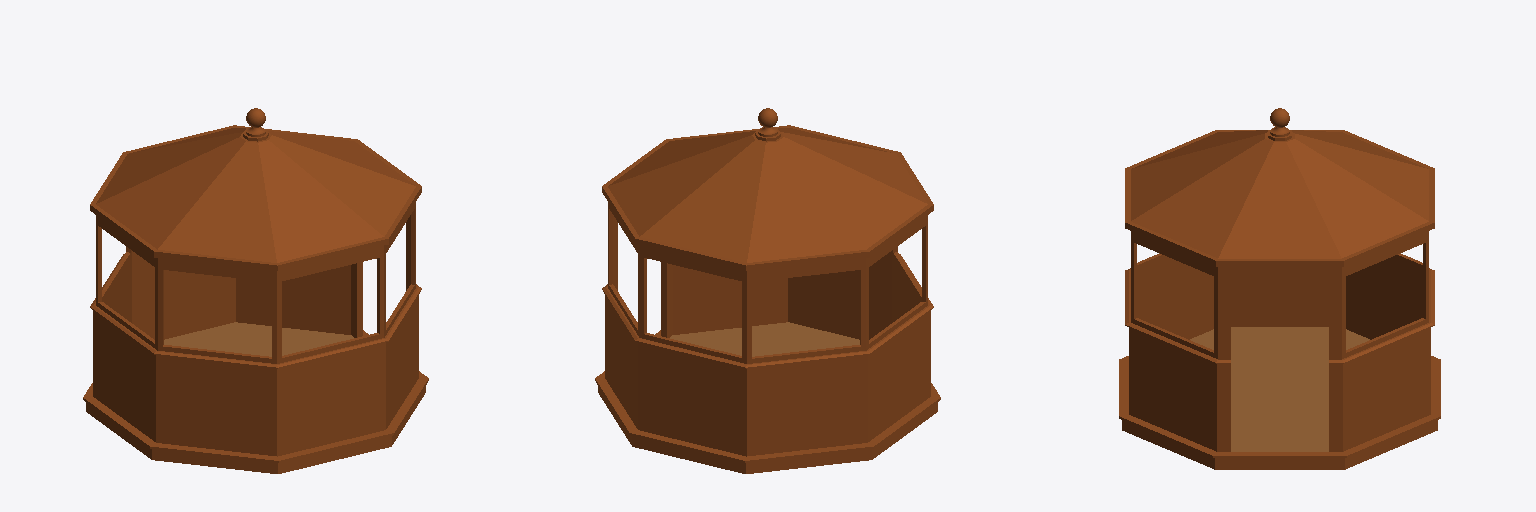
The model's file is summerhouse.obj.
3 renders of one model, left to right at view 1: azimuth 30°, elevation 25°; view 2: azimuth 150°, elevation 25°; view 3: azimuth 270°, elevation 25°, orthographic.
Parts seen in each view (by area): view 1: summerhouse_Main-Wood_Cherry_Original, summerhouse_Main-Wood__Floor; view 2: summerhouse_Main-Wood_Cherry_Original, summerhouse_Main-Wood__Floor; view 3: summerhouse_Main-Wood_Cherry_Original, summerhouse_Main-Wood__Floor.
Part boxes in pixels (x1,y1,x2,y2): summerhouse_Main-Wood_Cherry_Original: (83, 108, 428, 473); summerhouse_Main-Wood__Floor: (164, 322, 353, 356); summerhouse_Main-Wood_Cherry_Original: (595, 108, 940, 473); summerhouse_Main-Wood__Floor: (670, 322, 859, 356); summerhouse_Main-Wood_Cherry_Original: (1119, 108, 1440, 469); summerhouse_Main-Wood__Floor: (1190, 327, 1369, 451).
Bounding box in the file's own units: 4.92 × 4.94 × 4.92.